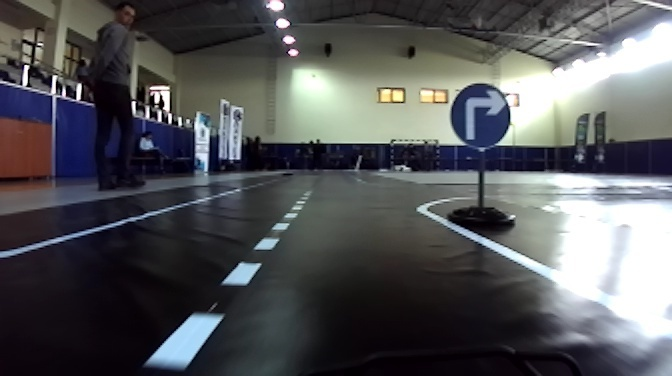saga_donus: (448, 84, 510, 147)
